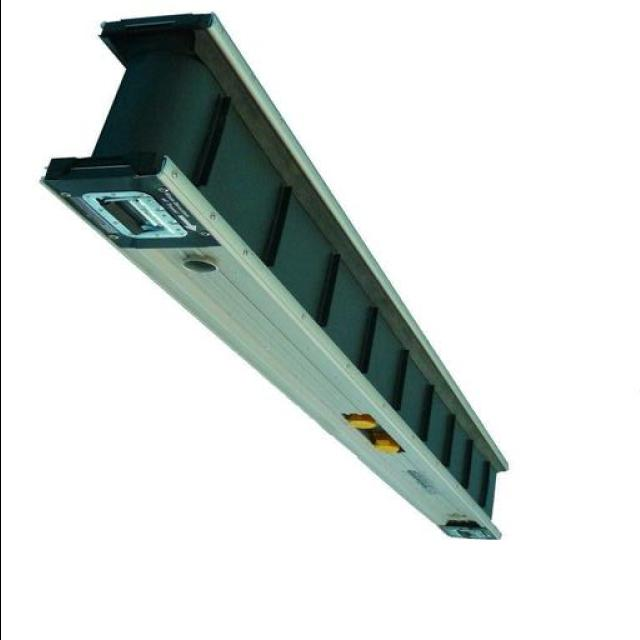conveyor: (85, 25, 501, 528)
